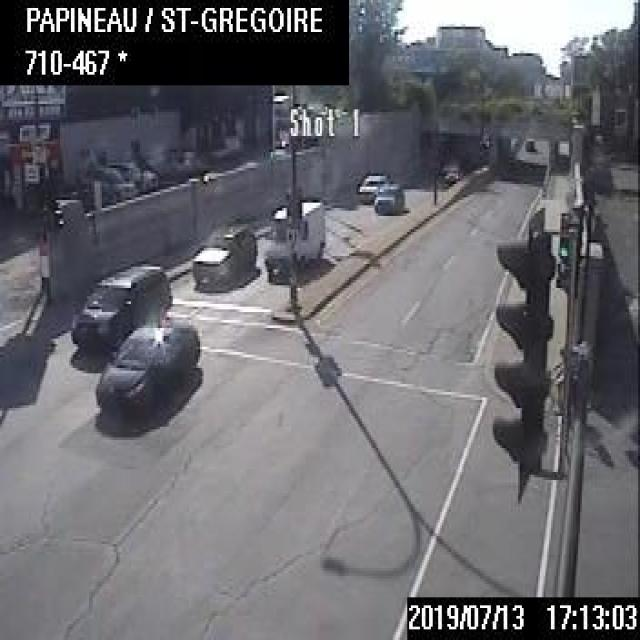vehicle: (90, 316, 201, 416), (66, 260, 172, 354), (264, 195, 324, 278), (189, 224, 258, 285), (83, 162, 137, 203), (352, 169, 388, 202), (372, 182, 406, 216), (123, 162, 157, 193), (439, 160, 462, 186)
